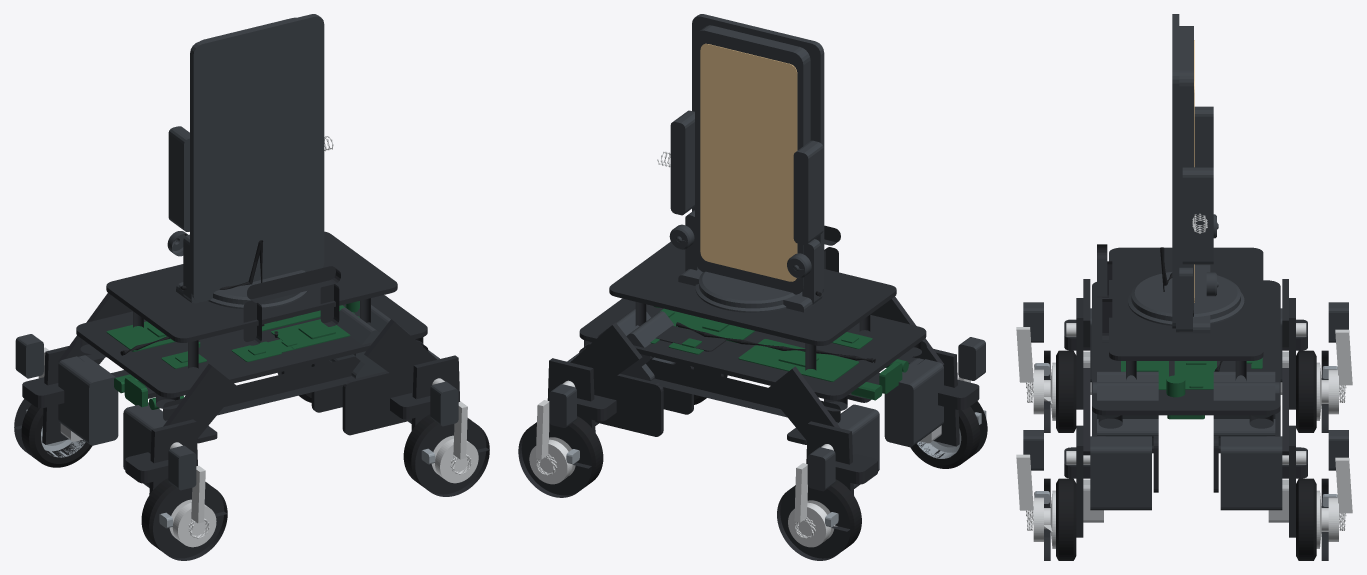
The model's file is phonebot.obj.
The picture shows the model from 3 angles, left to right: view 1: azimuth 30°, elevation 25°; view 2: azimuth 150°, elevation 25°; view 3: azimuth 270°, elevation 25°; orthographic projection.
Parts seen in each view (by area): view 1: dock.back, body.deck.lower, body.deck.upper, leg.rl.knee-servo, body.rail, leg.fr.bracket, leg.rr.fork-outer, leg.fr.fork-outer, leg.rr.thigh, leg.fr.thigh, dock.jaw.fixed, leg.rl.tyre (+26 smaller); view 2: phone.screen, body.deck.upper, body.deck.lower, phone.body, leg.rr.knee-servo, body.rail, dock.back, leg.fl.bracket, dock.jaw.fixed, dock.turret, leg.rl.fork-outer, leg.fl.fork-outer (+32 smaller); view 3: body.deck.upper, body.deck.lower, leg.fl.knee-servo, leg.fr.knee-servo, dock.turret, dock.jaw.slide, phone.body, dock.back, leg.rl.tyre, leg.fr.tyre, leg.fl.tyre, leg.rr.tyre (+37 smaller).
Boxes of the visible parts, left/top/right/bottom form: dock.back: left=190, top=14, right=324, bottom=302; body.deck.lower: left=76, top=295, right=427, bottom=397; body.deck.upper: left=106, top=231, right=397, bottom=342; leg.rl.knee-servo: left=58, top=355, right=118, bottom=445; body.rail: left=75, top=338, right=428, bottom=420; leg.fr.bracket: left=342, top=371, right=412, bottom=435; leg.rr.fork-outer: left=153, top=483, right=227, bottom=560; leg.fr.fork-outer: left=415, top=419, right=489, bottom=496; leg.rr.thigh: left=163, top=364, right=238, bottom=438; leg.fr.thigh: left=364, top=319, right=436, bottom=389; dock.jaw.fixed: left=168, top=126, right=189, bottom=231; leg.rl.tyre: left=21, top=404, right=92, bottom=467; phone.screen: left=700, top=43, right=797, bottom=281; body.deck.upper: left=609, top=241, right=896, bottom=345; body.deck.lower: left=579, top=298, right=926, bottom=400; phone.body: left=695, top=25, right=810, bottom=294; leg.rr.knee-servo: left=884, top=358, right=943, bottom=447; body.rail: left=579, top=341, right=926, bottom=423; dock.back: left=692, top=14, right=824, bottom=292; leg.fl.bracket: left=594, top=374, right=663, bottom=436; dock.jaw.fixed: left=793, top=140, right=823, bottom=245; dock.turret: left=695, top=271, right=795, bottom=312; leg.rl.fork-outer: left=777, top=486, right=850, bottom=560; leg.fl.fork-outer: left=518, top=422, right=591, bottom=497; body.deck.upper: left=1109, top=247, right=1263, bottom=360; body.deck.lower: left=1092, top=280, right=1280, bottom=415; leg.fl.knee-servo: left=1220, top=436, right=1282, bottom=510; leg.fr.knee-servo: left=1090, top=436, right=1151, bottom=510; dock.turret: left=1128, top=271, right=1244, bottom=325; dock.jaw.slide: left=1182, top=167, right=1213, bottom=264; phone.body: left=1179, top=26, right=1193, bottom=316; dock.back: left=1172, top=14, right=1179, bottom=328; leg.rl.tyre: left=1296, top=350, right=1316, bottom=432; leg.fr.tyre: left=1056, top=478, right=1076, bottom=560; leg.fl.tyre: left=1296, top=478, right=1316, bottom=560; leg.rr.tyre: left=1056, top=350, right=1076, bottom=432.
Bounding box in the file's own units: 228 × 290 × 196.
